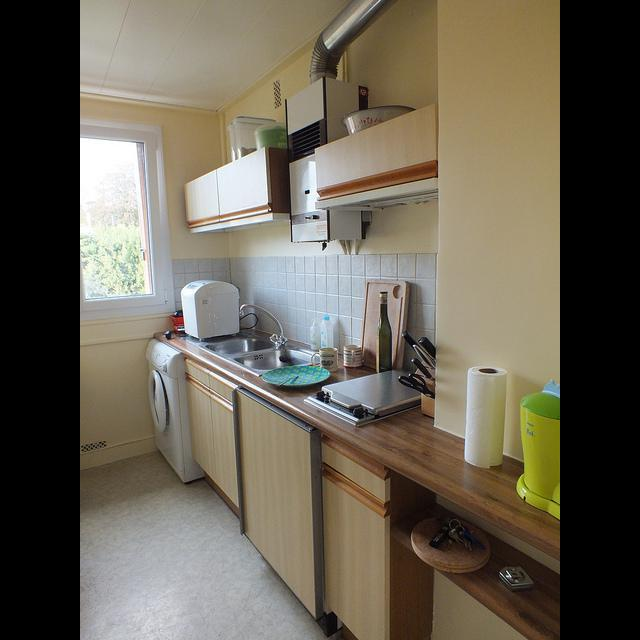Refrigerator: (236, 388, 322, 624)
Washing-Machine: (145, 334, 197, 484)
